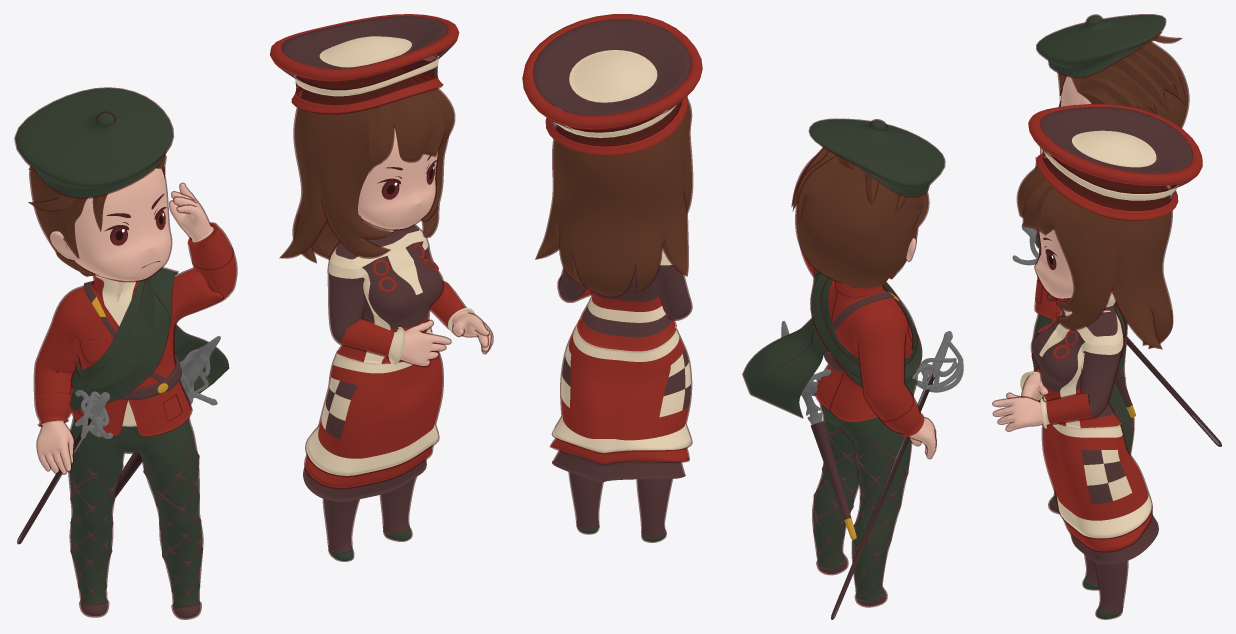
The model's file is boy_girl.glb.
The picture shows the model from 3 angles, left to right: view 1: azimuth 30°, elevation 25°; view 2: azimuth 150°, elevation 25°; view 3: azimuth 270°, elevation 25°; orthographic projection. The views are drawn at different scales.
Parts seen in each view (by area): view 1: Dress.001, GirlHair.001, Pants.001, Coat.001, Hat.001, Head.001, BoyBody.002, Clock.001, GirlBody.001, BoyHair.001, Sock.001, PantsPattern.001 (+5 smaller); view 2: Dress.001, GirlHair.001, Hat.001, BoyHair.001, Coat.001, Pants.001, Clock.001, Head.001, Sock.001, PantsPattern.001, Rapier.001, DaggerSheath.001 (+3 smaller); view 3: Dress.001, GirlHair.001, Hat.001, BoyHair.001, Head.001, GirlBody.001, Sock.001, Pants.001, RapierSheath.001, Coat.001, BoyBody.002, Rapier.001 (+3 smaller).
Part boxes in pixels (x1=…): Dress.001: x1=303, y1=222, x2=475, y2=501; GirlHair.001: x1=279, y1=67, x2=455, y2=263; Pants.001: x1=68, y1=416, x2=203, y2=607; Coat.001: x1=33, y1=222, x2=237, y2=436; Hat.001: x1=270, y1=14, x2=459, y2=114; Head.001: x1=14, y1=87, x2=173, y2=199; BoyBody.002: x1=36, y1=168, x2=213, y2=474; Clock.001: x1=69, y1=267, x2=229, y2=410; GirlBody.001: x1=358, y1=128, x2=493, y2=367; BoyHair.001: x1=28, y1=155, x2=166, y2=276; Sock.001: x1=322, y1=477, x2=416, y2=552; PantsPattern.001: x1=69, y1=442, x2=202, y2=606; Dress.001: x1=549, y1=248, x2=692, y2=482; GirlHair.001: x1=535, y1=99, x2=693, y2=297; Hat.001: x1=522, y1=14, x2=702, y2=155; BoyHair.001: x1=791, y1=128, x2=929, y2=288; Coat.001: x1=799, y1=243, x2=924, y2=436; Pants.001: x1=812, y1=402, x2=912, y2=600; Clock.001: x1=742, y1=268, x2=922, y2=418; Head.001: x1=808, y1=118, x2=945, y2=197; Sock.001: x1=568, y1=472, x2=672, y2=537; PantsPattern.001: x1=813, y1=423, x2=911, y2=600; Rapier.001: x1=834, y1=331, x2=963, y2=616; DaggerSheath.001: x1=810, y1=421, x2=856, y2=539; Dress.001: x1=1020, y1=295, x2=1158, y2=564; GirlHair.001: x1=1016, y1=157, x2=1173, y2=349; Hat.001: x1=1028, y1=104, x2=1202, y2=220; BoyHair.001: x1=1057, y1=31, x2=1189, y2=128; Head.001: x1=1036, y1=14, x2=1166, y2=78; GirlBody.001: x1=992, y1=229, x2=1114, y2=431; Sock.001: x1=1084, y1=554, x2=1128, y2=612; Pants.001: x1=1032, y1=314, x2=1134, y2=504; RapierSheath.001: x1=1126, y1=337, x2=1221, y2=446; Coat.001: x1=1034, y1=157, x2=1122, y2=319; BoyBody.002: x1=1040, y1=75, x2=1090, y2=157; Rapier.001: x1=1012, y1=223, x2=1219, y2=444.
Size of the model in its own units: 1.75 by 2.08 by 0.8928.
